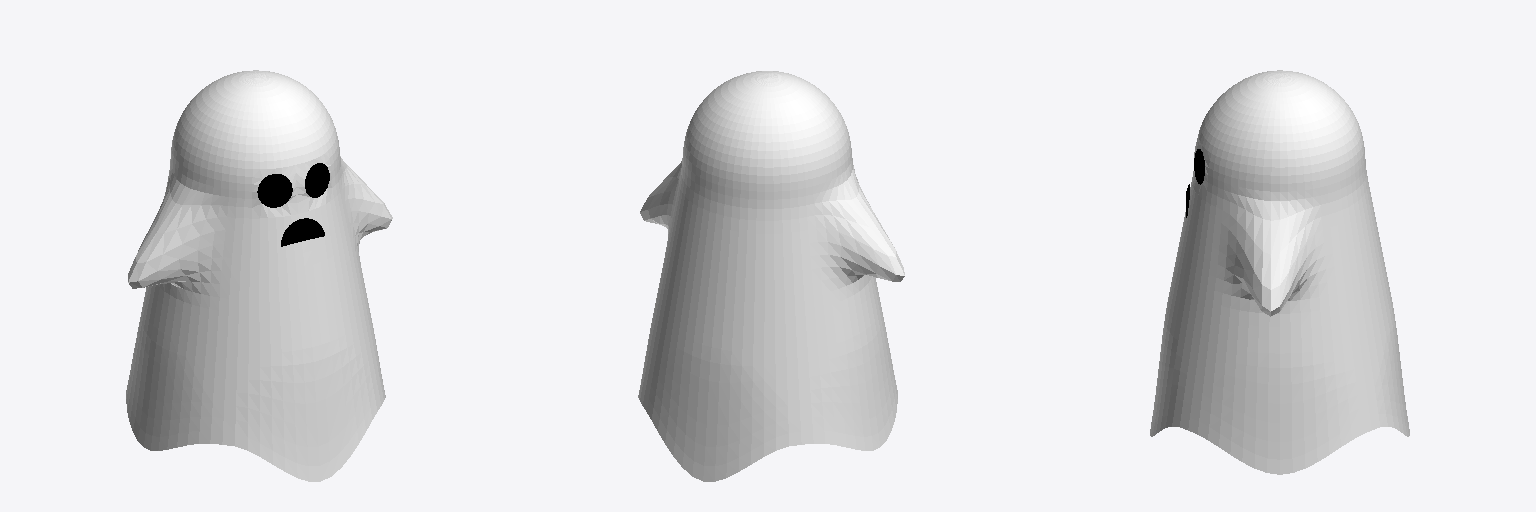
The model's file is ghost.obj.
The picture shows the model from 3 angles: view 1: azimuth 30°, elevation 25°; view 2: azimuth 150°, elevation 25°; view 3: azimuth 270°, elevation 25°; orthographic projection.
Visible parts, largest first — view 1: Sphere, Circle; view 2: Sphere; view 3: Sphere.
Part boxes in pixels (bbox=[...]): Sphere: bbox=[126, 70, 392, 481]; Circle: bbox=[281, 218, 324, 246]; Sphere: bbox=[638, 71, 904, 481]; Sphere: bbox=[1150, 70, 1409, 474].
Size of the model in its own units: 3.56 by 4.57 by 3.02.